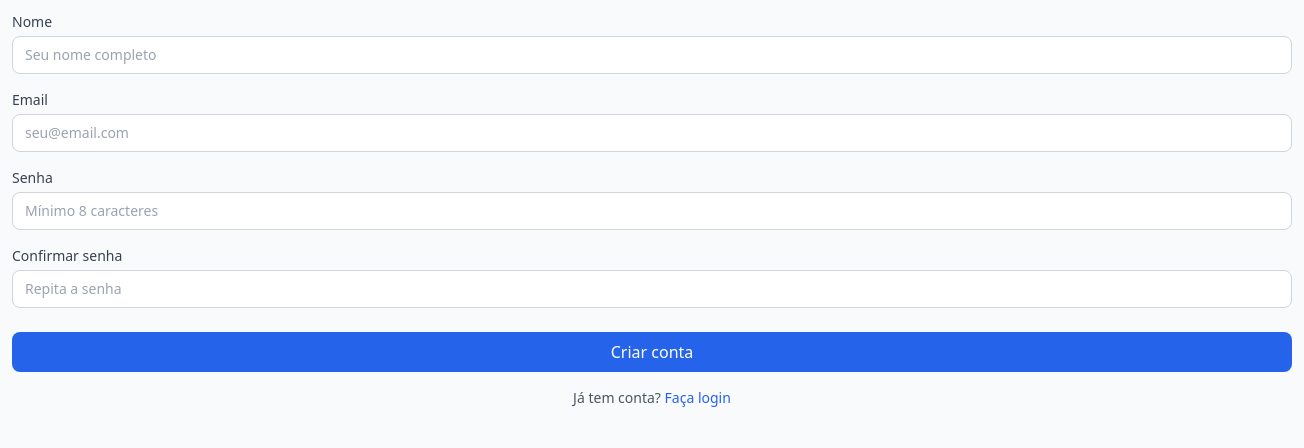
Test case: RegisterForm › deve exibir erro quando senhas não conferem
Step 1. Type "João" into the field labelled "Nome" → (652, 55), box [12, 36, 1292, 74]
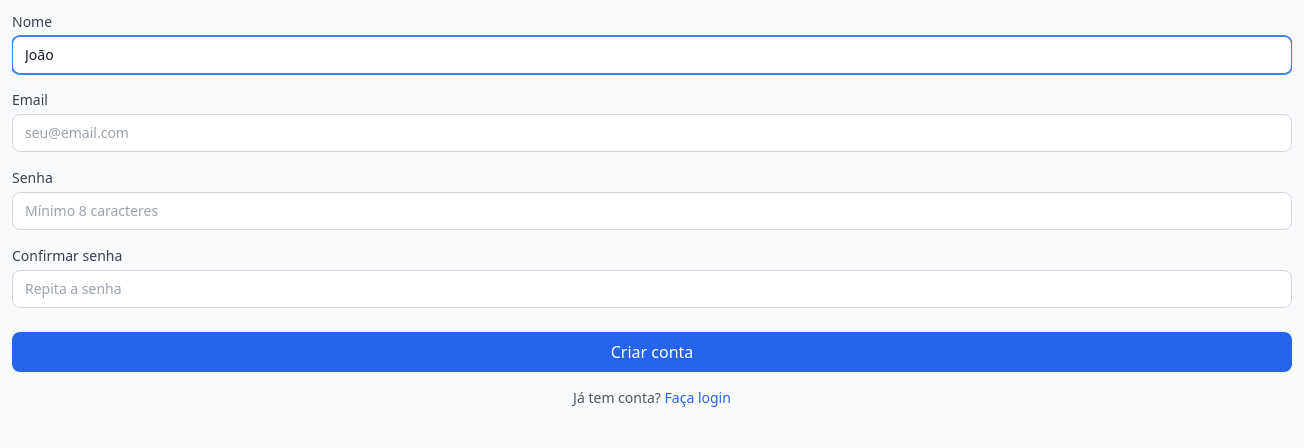
Step 2. Type "test@test.com" into the field labelled "Email" → (652, 133), box [12, 114, 1292, 152]
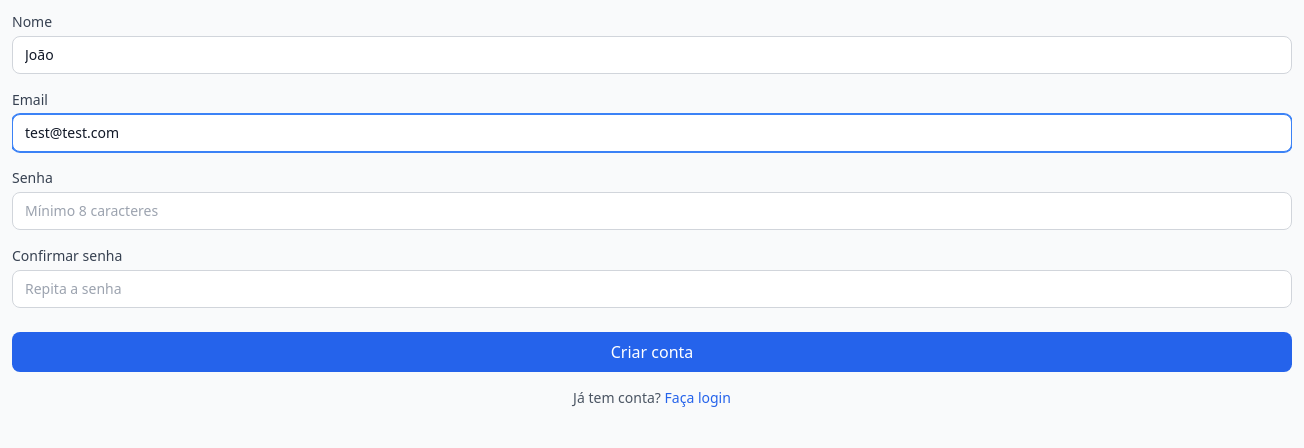
Step 3. Type "12345678" into the password field labelled "Senha" → (652, 211), box [12, 192, 1292, 230]
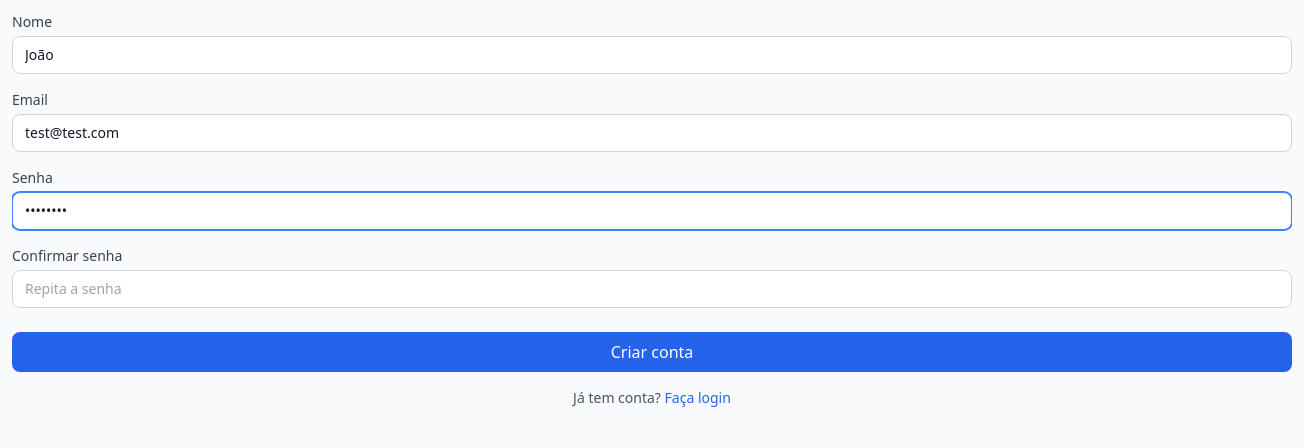
Step 4. Type "87654321" into the password field labelled "Confirmar senha" → (652, 289), box [12, 270, 1292, 308]
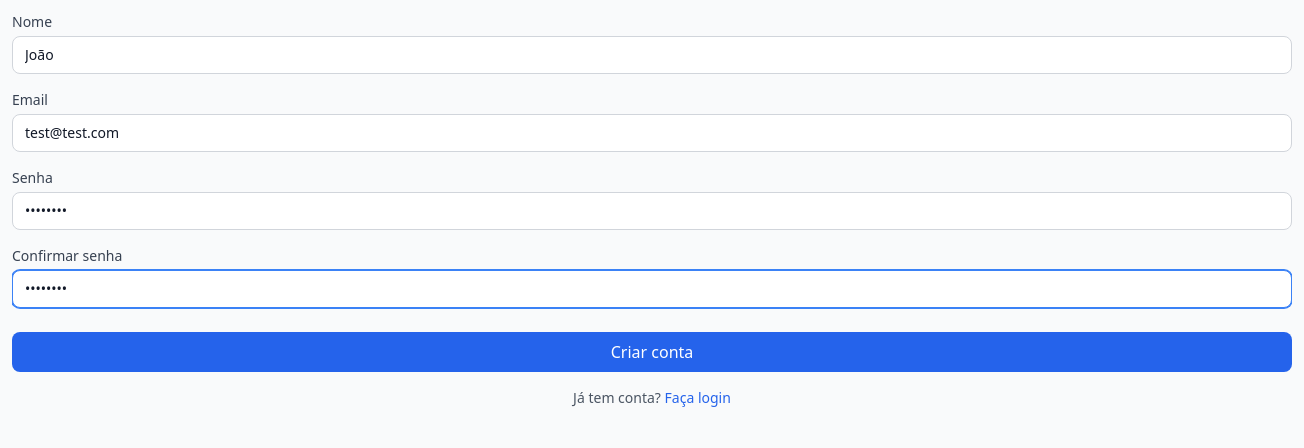
Step 5. Click the button "Criar conta" → (652, 352), box [12, 332, 1292, 372]
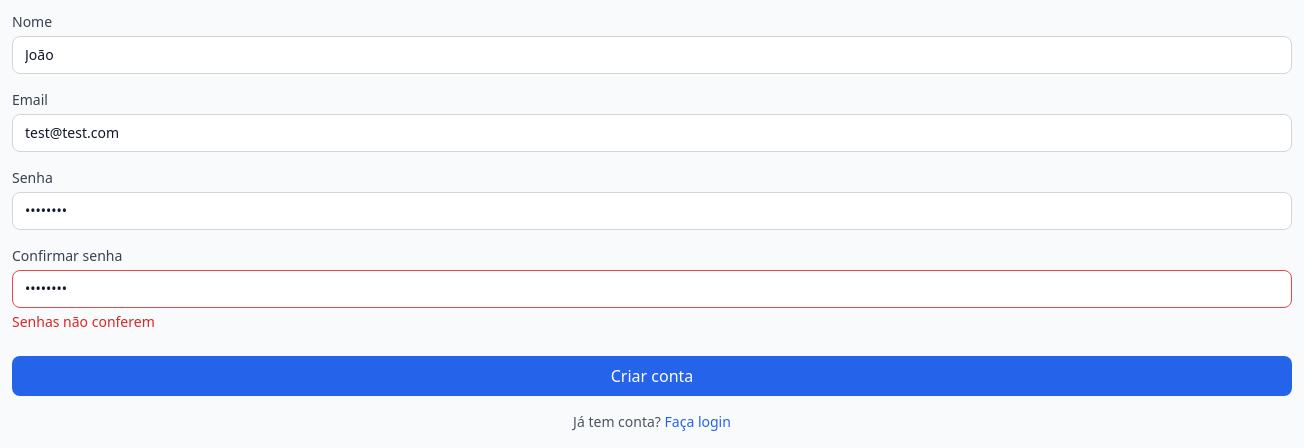
Check: the text "Senhas não conferem" is shown, box [12, 312, 155, 331]
